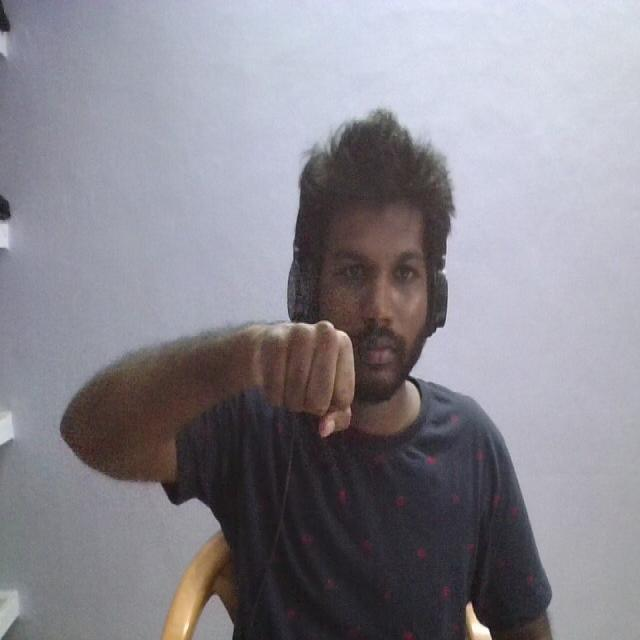Yes: (207, 270, 395, 514)
